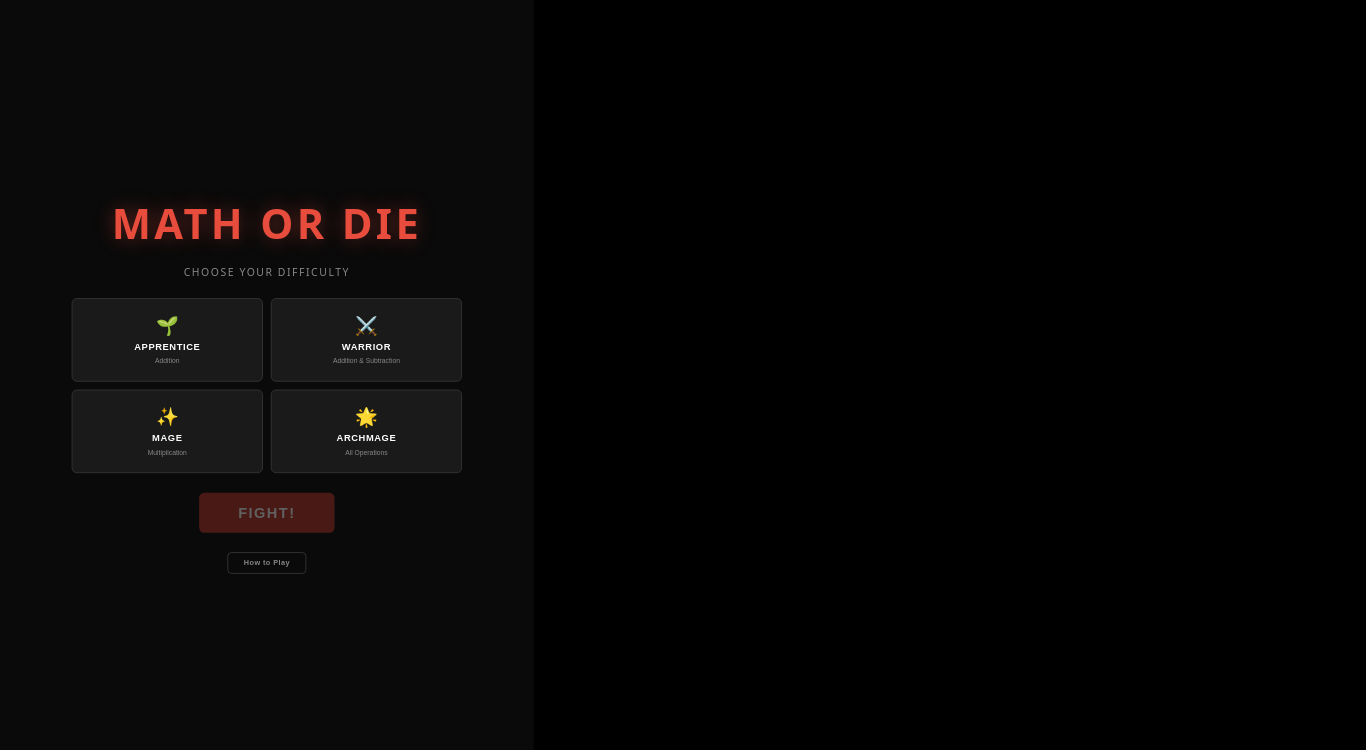
it: FrontPage › shows HowToPlay modal when How to Play button is clicked
Click the button "How to Play". click: (267, 563)
box: [228,552,306,574]
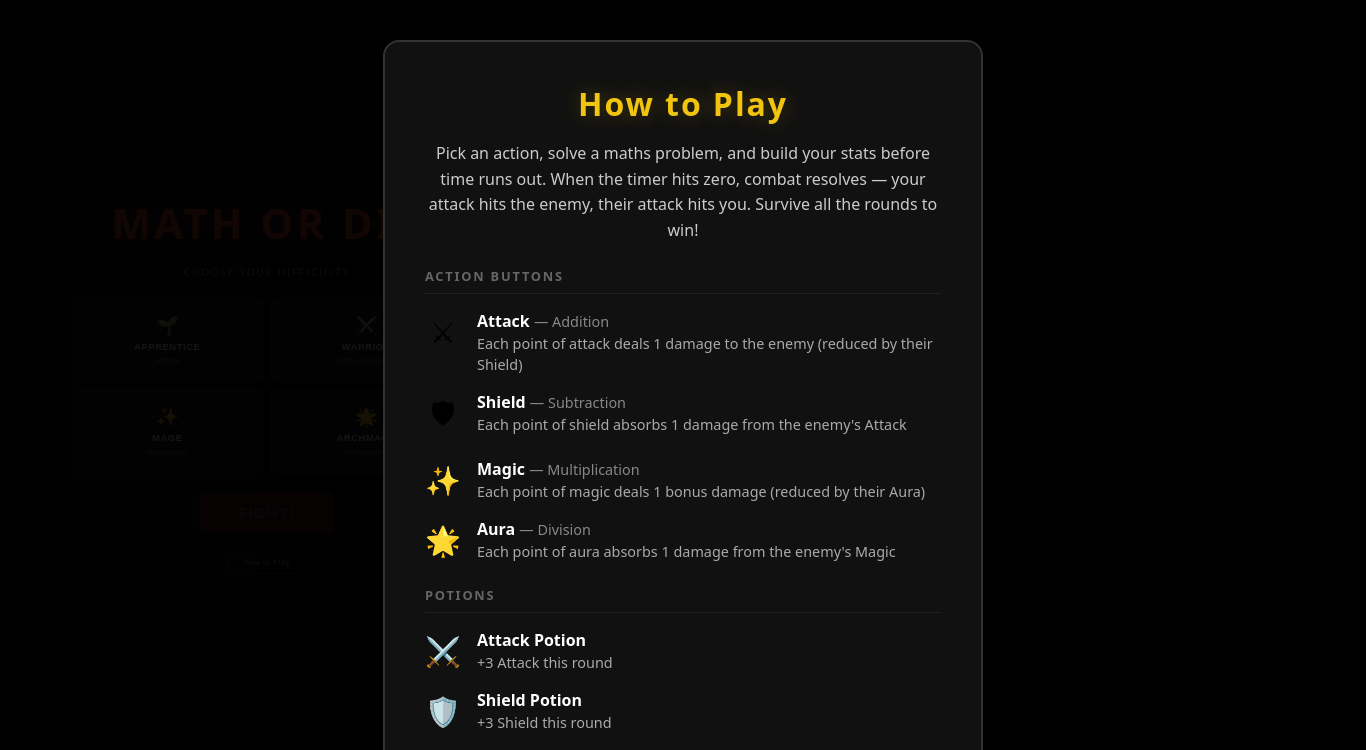
expect the text "Survive all the rounds to win" is shown: met, box [429,142,937,241]
